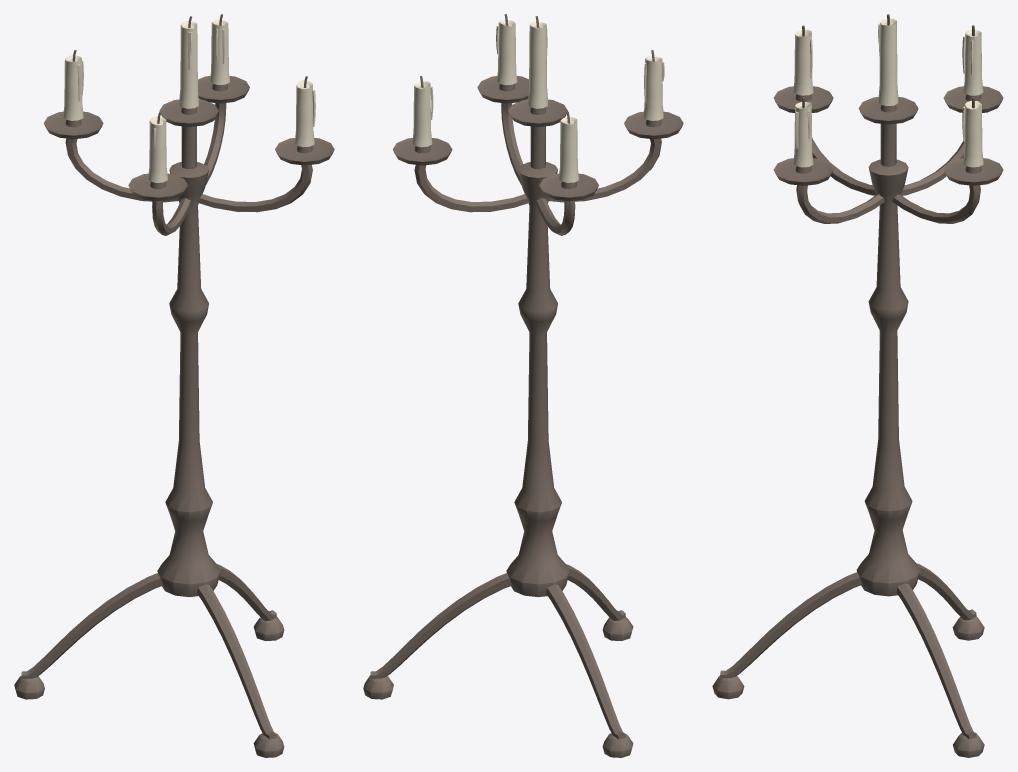
The model's file is candelabra.glb.
3 views of the same model, side by side, from view 1: azimuth 30°, elevation 25°; view 2: azimuth 150°, elevation 25°; view 3: azimuth 270°, elevation 25° (orthographic).
Visible parts, largest first — view 1: candelabra; view 2: candelabra; view 3: candelabra.
Boxes of the visible parts, x1,y1,x2,y2 form: candelabra: (14,14,334,757); candelabra: (363,14,683,757); candelabra: (712,14,1003,757).
Size of the model in its own units: 0.7728 by 1.87 by 0.7271.
